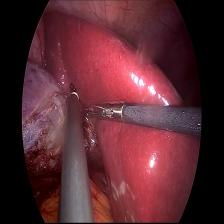Grasper: (85, 102, 130, 131)
Hook: (64, 81, 82, 105)
